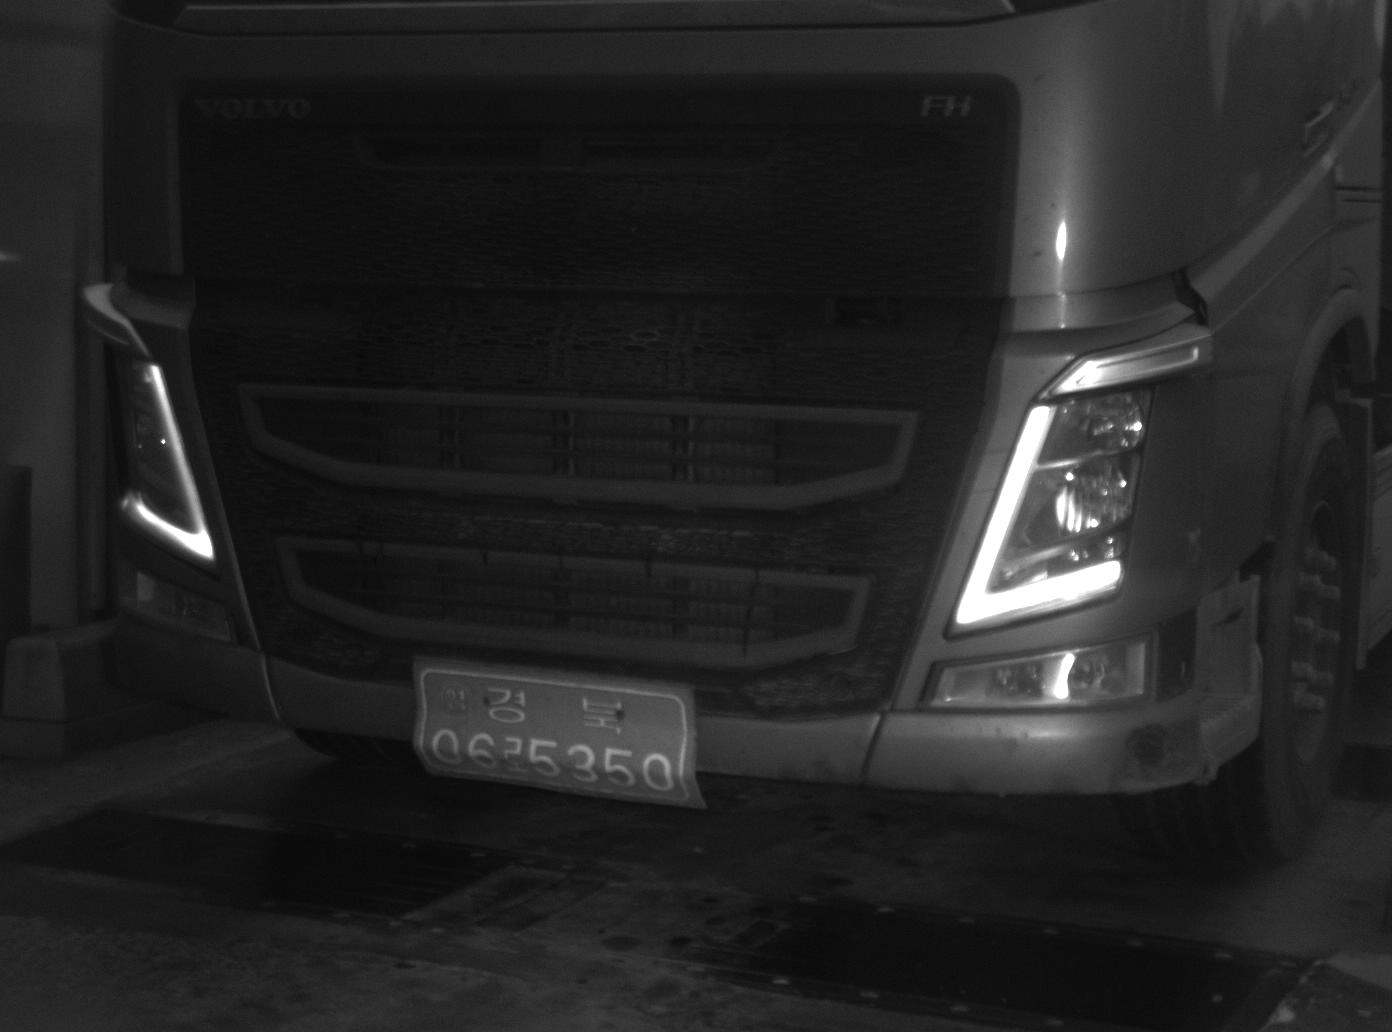car: (71, 1, 1392, 865)
plate: (410, 659, 703, 809)
